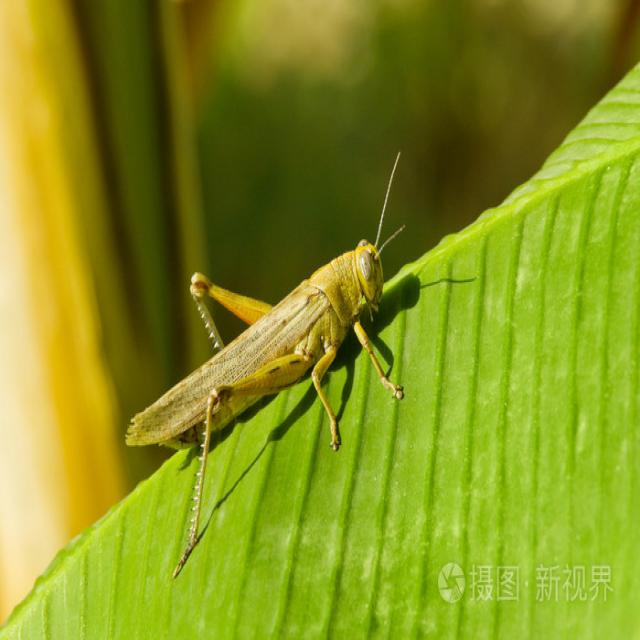ZhaMeng: (98, 146, 412, 514)
